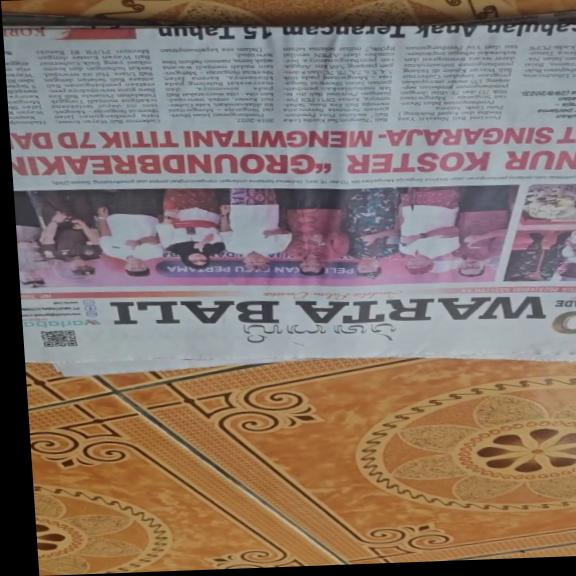Kertas: (13, 0, 576, 374)
